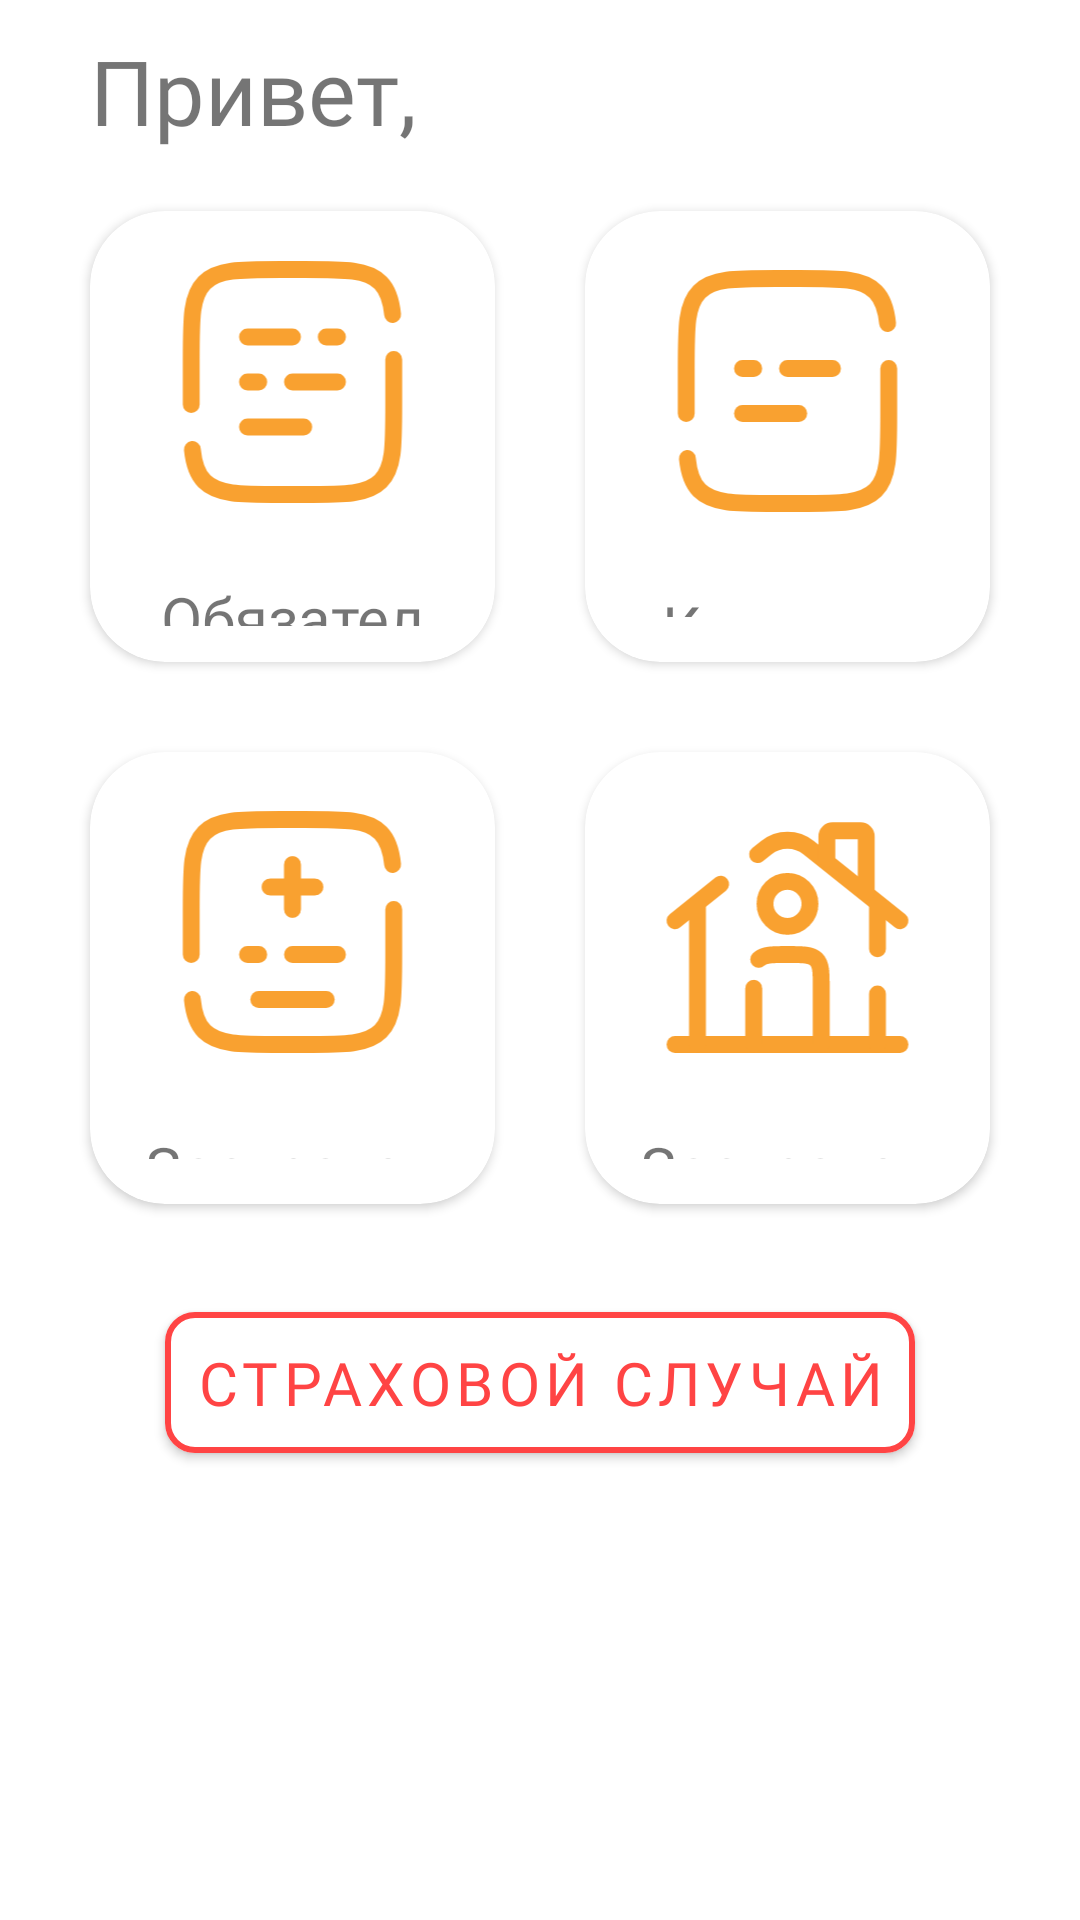

Locate icon controls on the screen. Image size 1080 x 1920, boxes as (x1, y1, x2, y2).
document: (677, 270, 898, 512)
document medicine: (182, 811, 403, 1053)
document text: (182, 261, 403, 503)
home: (666, 822, 909, 1053)
